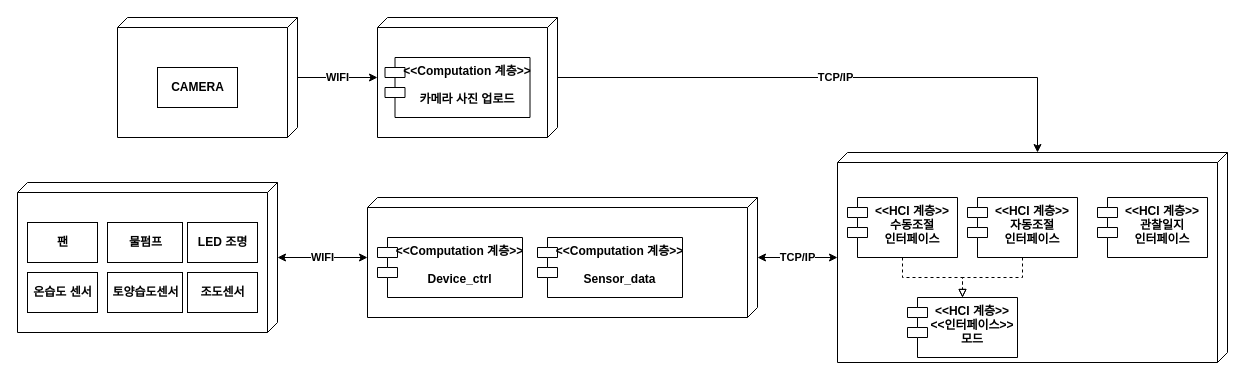
The diagram is 1245 pixels wide and 380 high, and some of its shapes have lost their labels. Here are the shapes that lost their labels. From the top down, the box of each, then its label:
(116, 16, 298, 138): ESP32_CAMERA
(376, 16, 558, 138): Firebase_camera_server
(16, 182, 278, 332): ESP32
(366, 196, 758, 318): Firebase_server
(836, 152, 1228, 362): personal_phone
